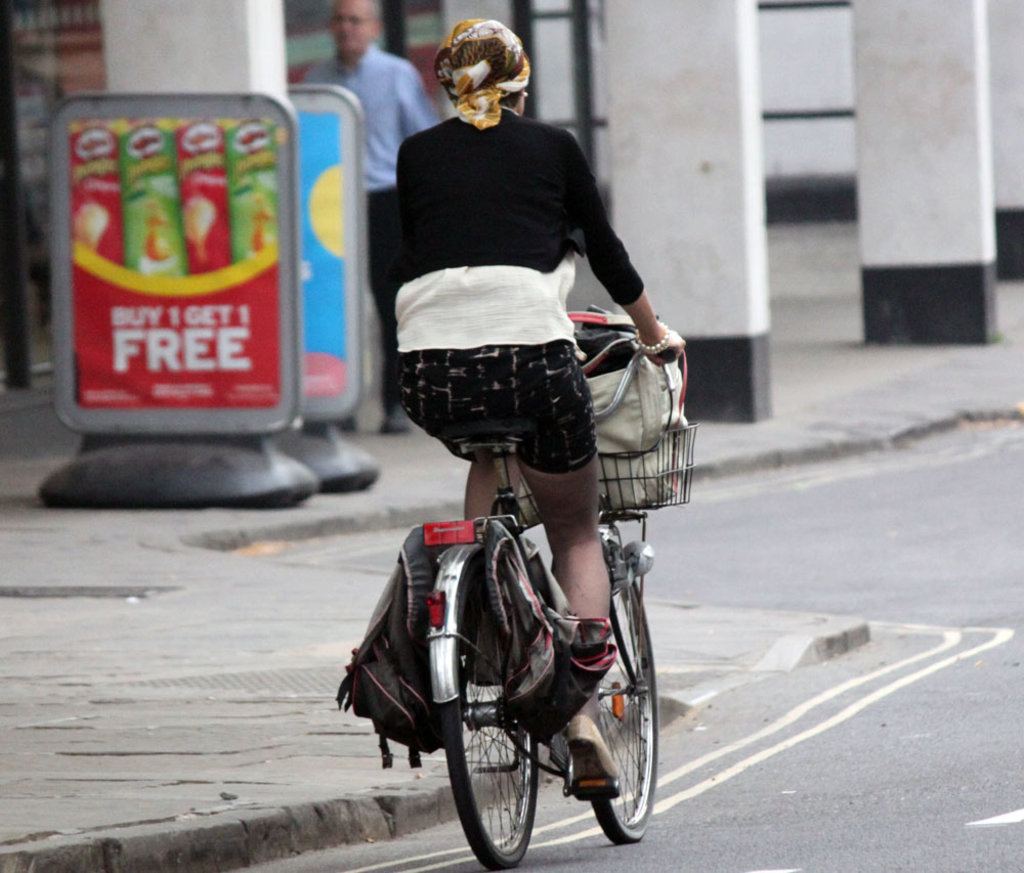Bike_away: (385, 304, 680, 868)
